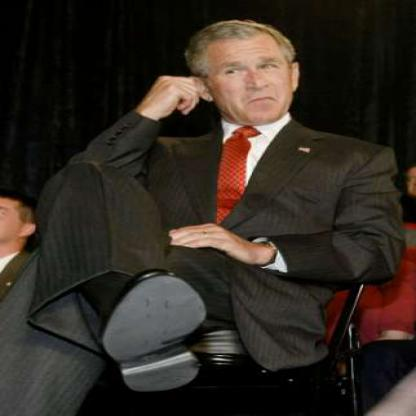face: (205, 22, 296, 124)
